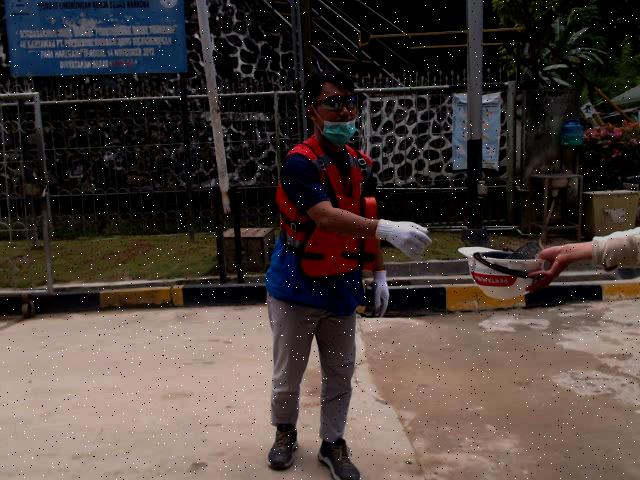glasses: (317, 96, 359, 111)
gloves: (373, 216, 433, 263), (367, 267, 394, 322)
helmet: (454, 243, 549, 306)
mask: (320, 118, 360, 149)
safety-shoes: (316, 437, 362, 480), (266, 424, 299, 473)
vest: (293, 190, 383, 277)
